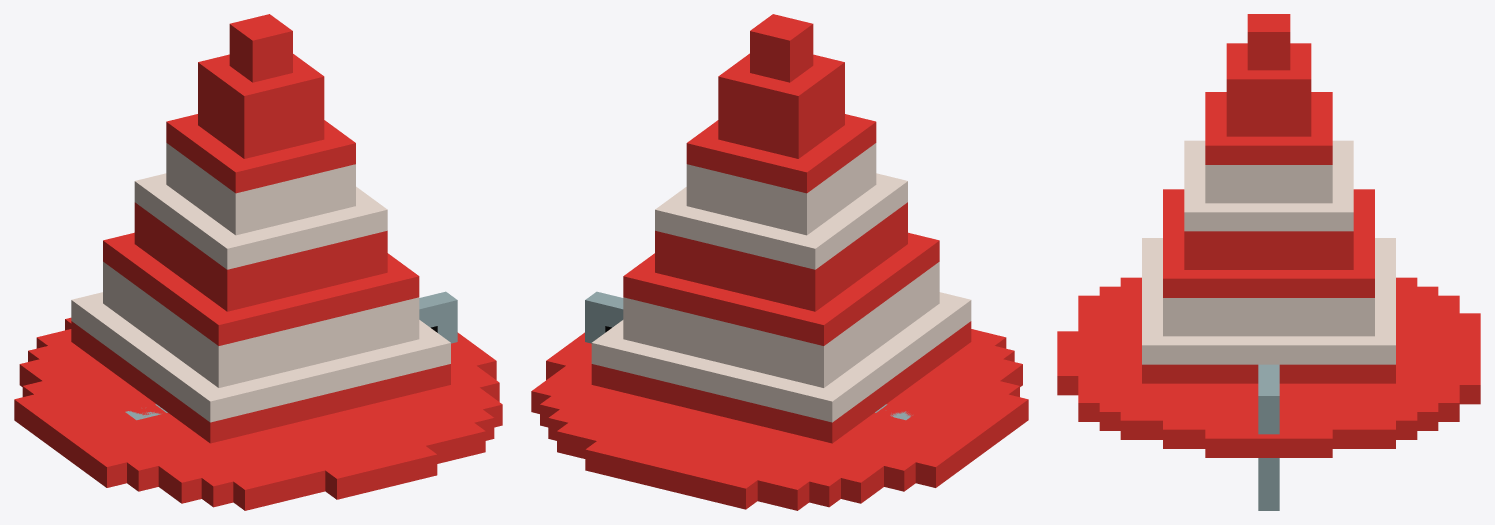
3 views of the same model, side by side, from view 1: azimuth 30°, elevation 25°; view 2: azimuth 150°, elevation 25°; view 3: azimuth 270°, elevation 25° (orthographic). The views are drawn at different scales.
Parts seen in each view (by area): view 1: base, Sudachi, top (3), right, glasses, bottom (1); view 2: base, Sudachi, bottom (1), right, glasses, top (3); view 3: base, Sudachi, bottom (1), glasses, top (3).
Part boxes in pixels (box(x1,y1,x2,y2)): base: box(71, 14, 450, 443); Sudachi: box(22, 329, 499, 505); top (3): box(170, 396, 502, 510); right: box(14, 394, 126, 487); glasses: box(125, 291, 457, 420); bottom (1): box(19, 317, 333, 495); base: box(591, 14, 971, 443); Sudachi: box(543, 329, 1019, 505); bottom (1): box(531, 382, 872, 510); right: box(915, 394, 1028, 487); glasses: box(585, 291, 912, 420); top (3): box(975, 332, 1022, 386); base: box(1142, 14, 1395, 383); Sudachi: box(1057, 286, 1480, 457); bottom (1): box(1078, 277, 1480, 448); glasses: box(1258, 364, 1279, 510); top (3): box(1078, 277, 1141, 439).
Bounding box in the file's own units: 20 × 21 × 20.
Materials: 12 (12 with a texture image).
